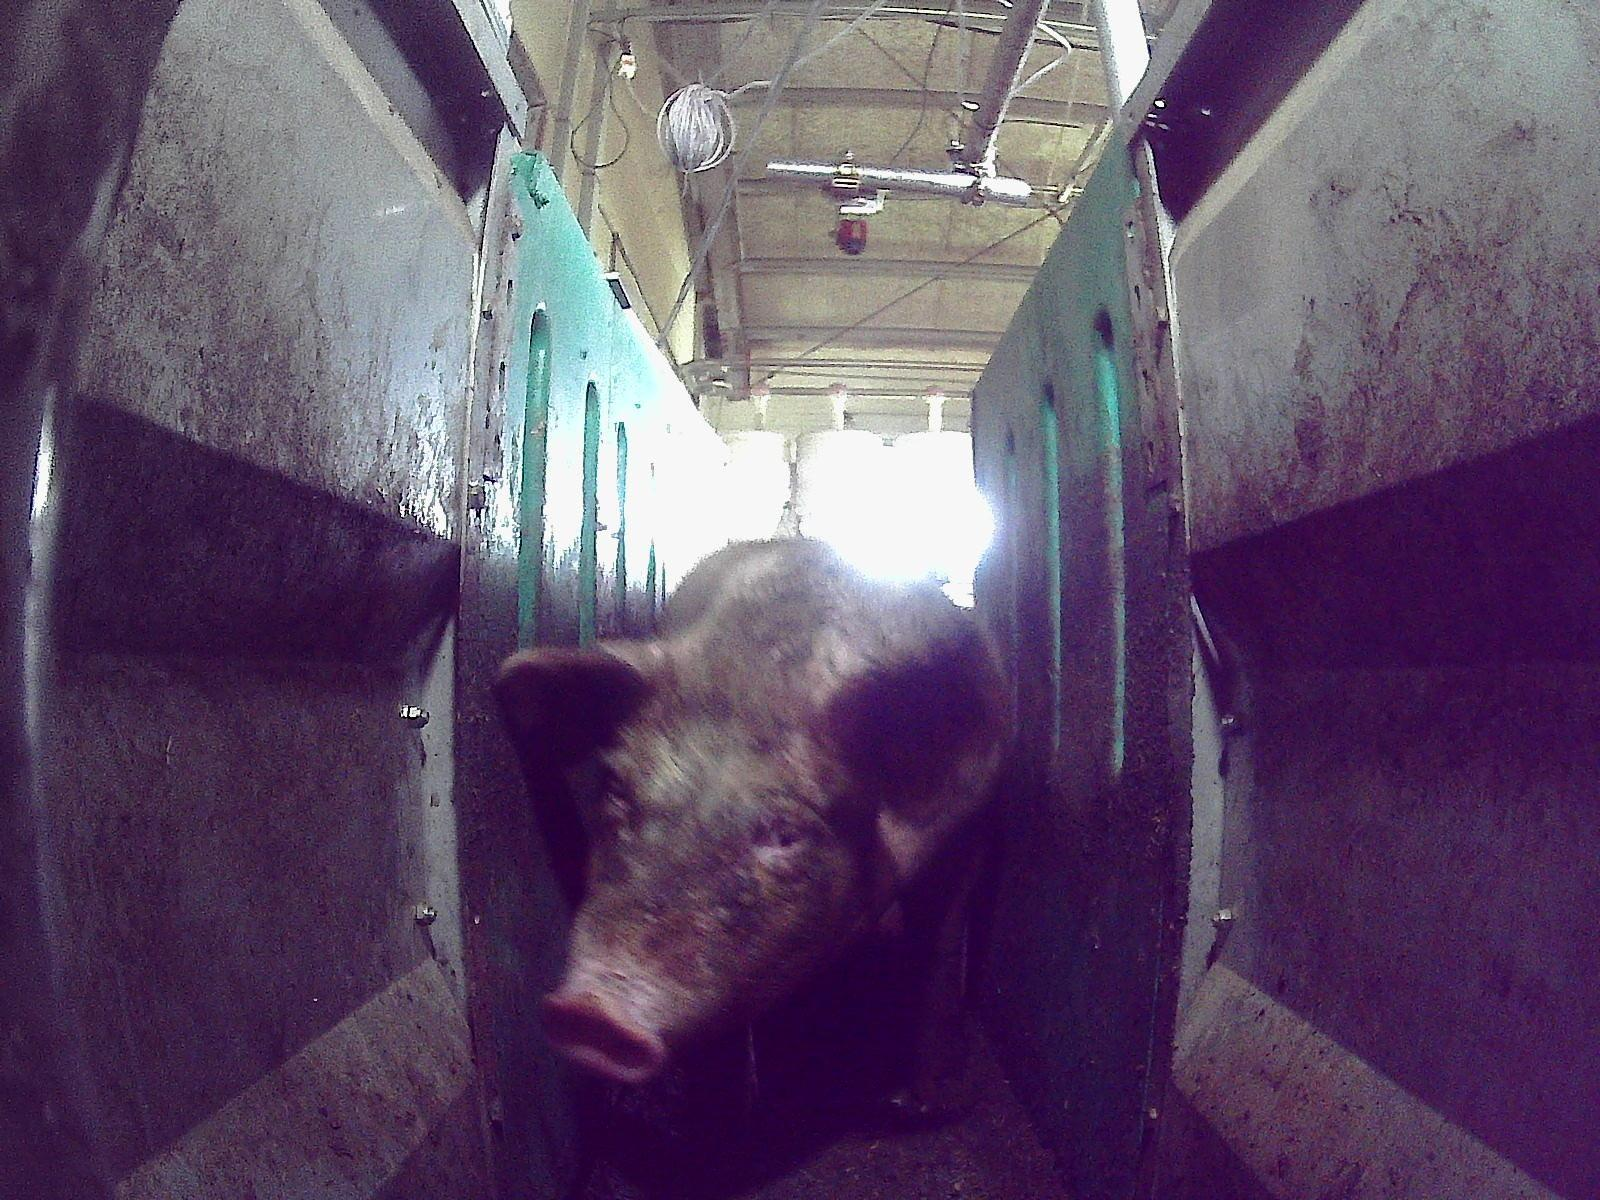Face: (539, 681, 860, 1082)
